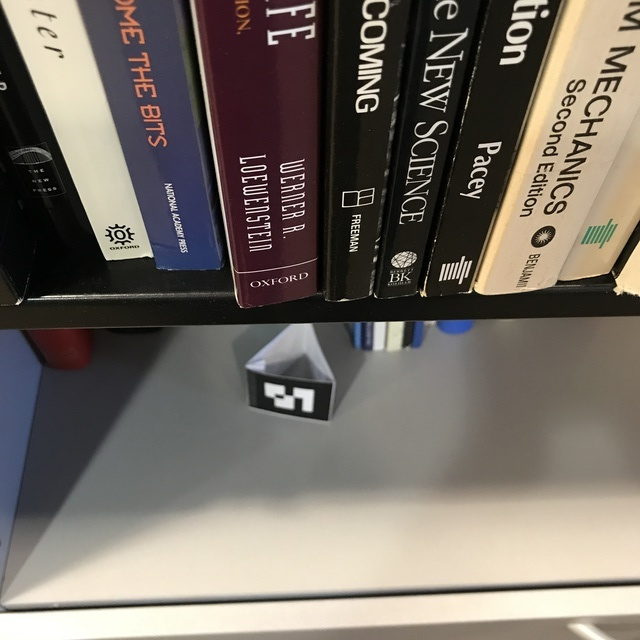ARTag: (245, 317, 336, 425)
